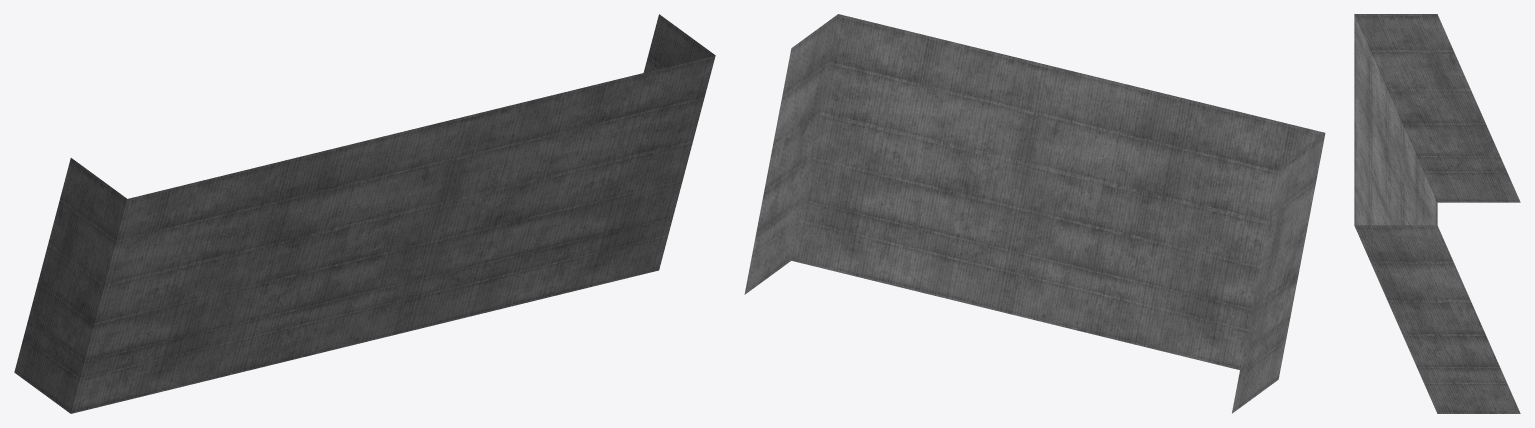
The model's file is SM_Wall_41.fbx.
3 views of the same model, side by side, from view 1: azimuth 30°, elevation 25°; view 2: azimuth 150°, elevation 25°; view 3: azimuth 270°, elevation 25° (orthographic). The views are drawn at different scales.
Parts seen in each view (by area): view 1: SM_Wall_54; view 2: SM_Wall_54; view 3: SM_Wall_54.
Part boxes in pixels (x1,y1,x2,y2): SM_Wall_54: [14, 14, 715, 413]; SM_Wall_54: [744, 14, 1325, 413]; SM_Wall_54: [1354, 14, 1520, 413].
Bounding box in the file's own units: 600 × 250 × 200.
